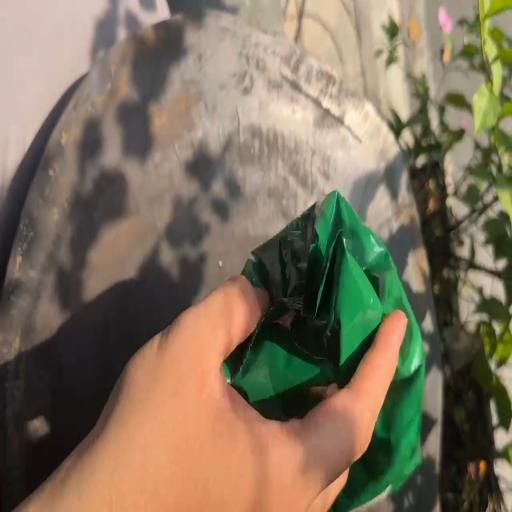cafe_xay: (224, 191, 424, 510)
